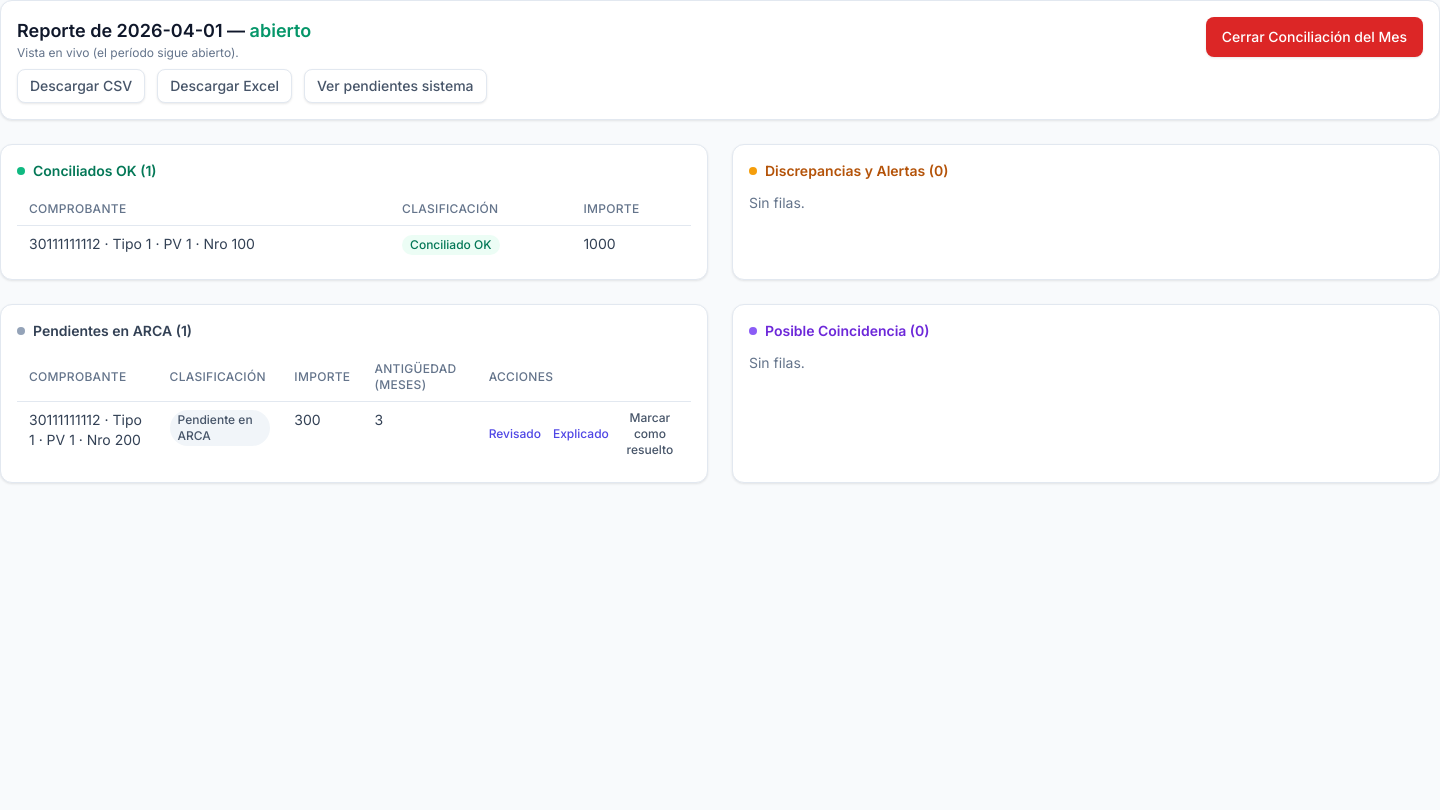
Scenario: T31: PeriodoReportViewer › does not close when the confirmation is declined
The width and height of the screenshot is (1440, 810).
Click the button "Cerrar Conciliación del Mes". click: [1314, 37]
box: 1206,17 -> 1423,57
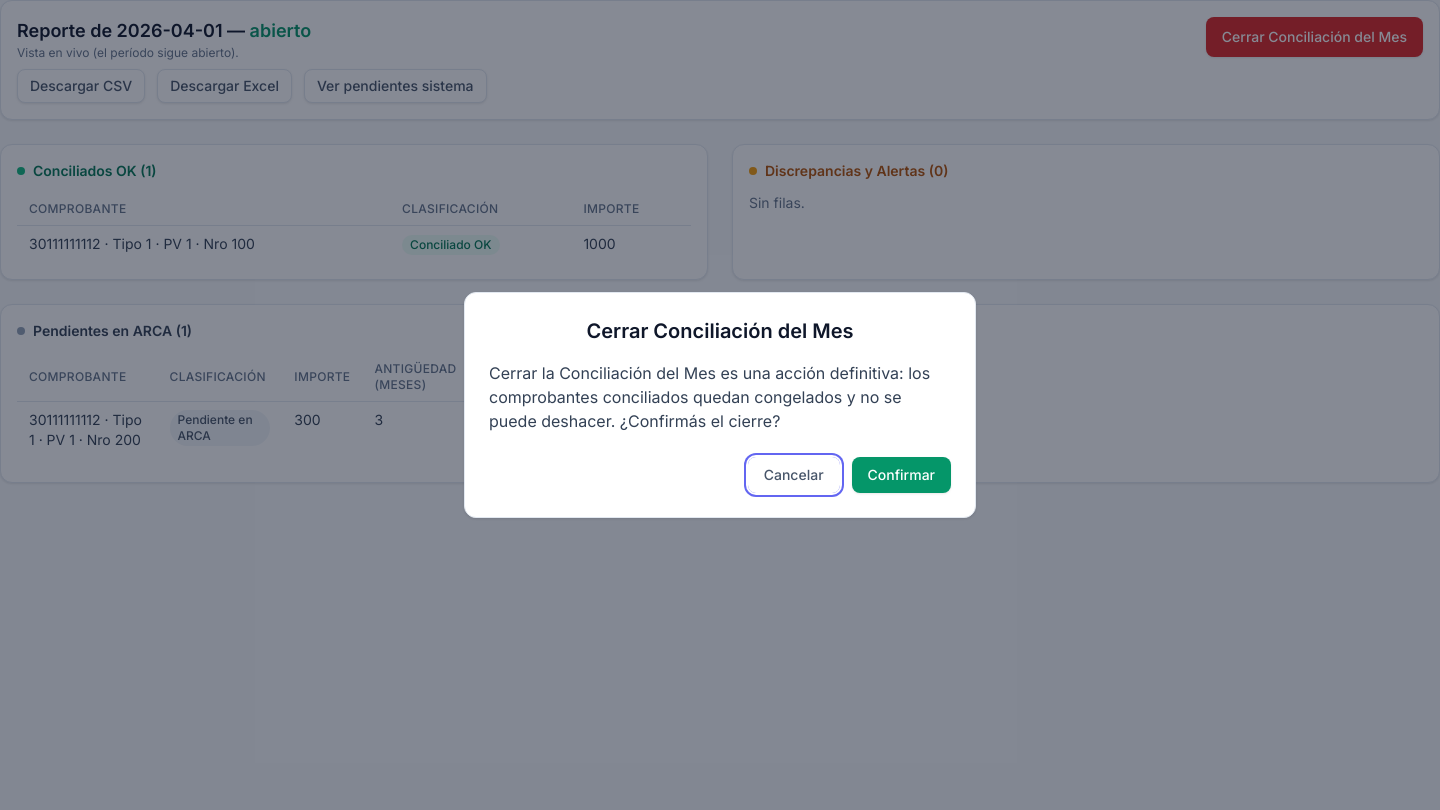
Click the button "Cancelar". click: [794, 475]
box: 748,457 -> 840,493
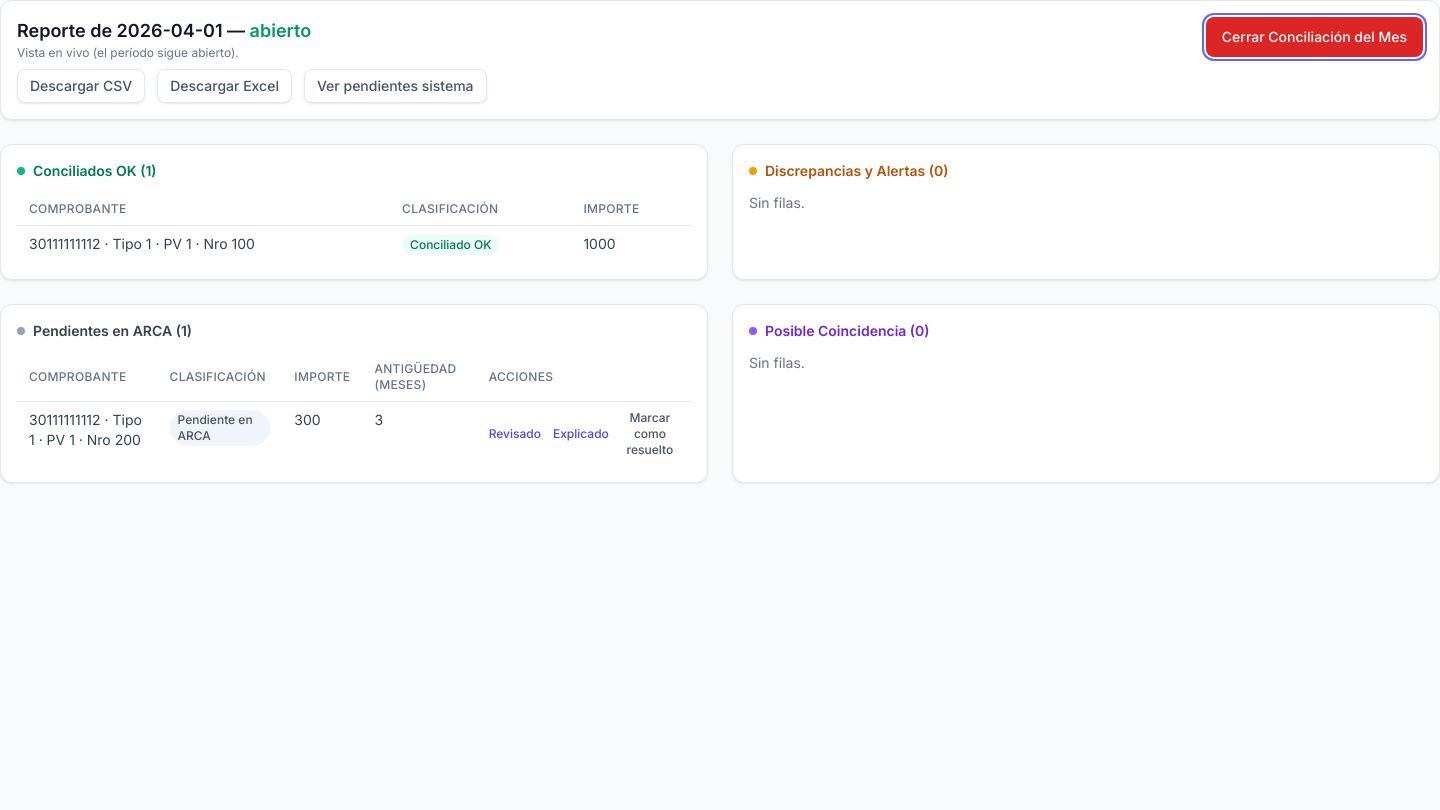
Check: the dialog is gone
